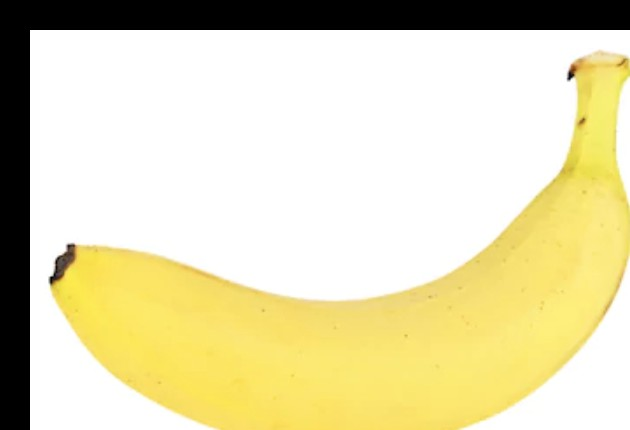fresh_banana: (49, 52, 630, 430)
